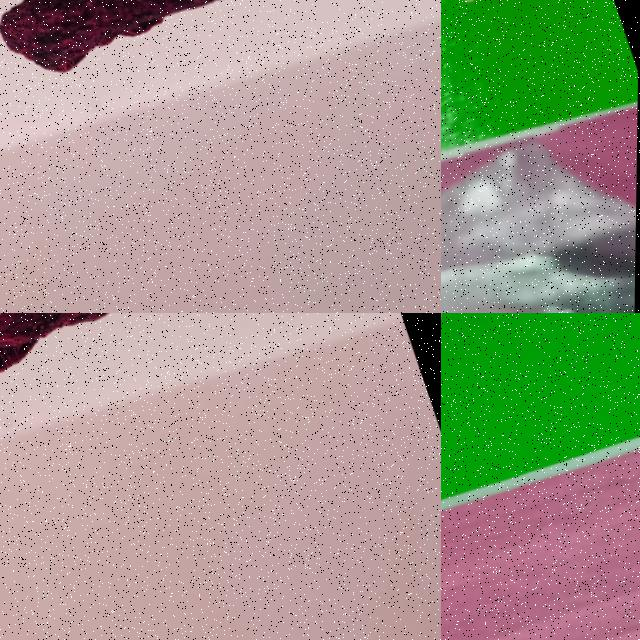Agglomerated_cocoabeans: (441, 313, 519, 507)
Flat_cocoabeans: (0, 0, 386, 143), (0, 313, 306, 453)
